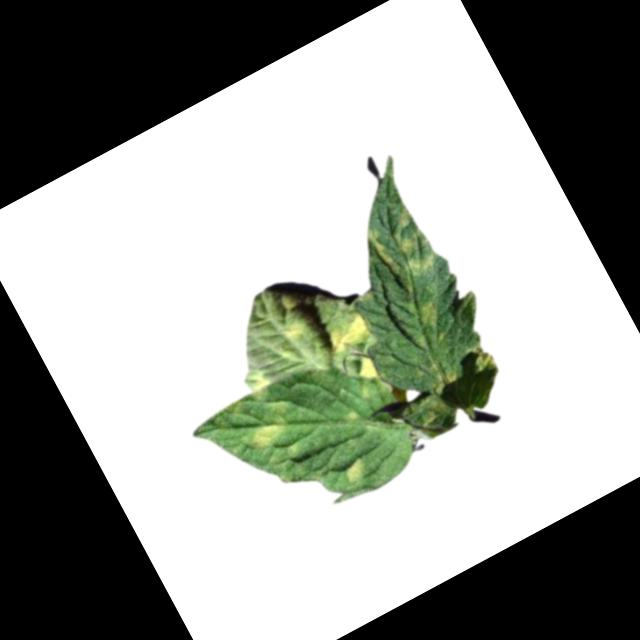Leaf_Mold: (360, 200, 448, 298), (235, 396, 301, 454), (317, 303, 379, 361), (411, 295, 447, 335), (348, 351, 384, 386), (336, 453, 371, 488), (240, 361, 275, 396), (280, 315, 308, 343)
